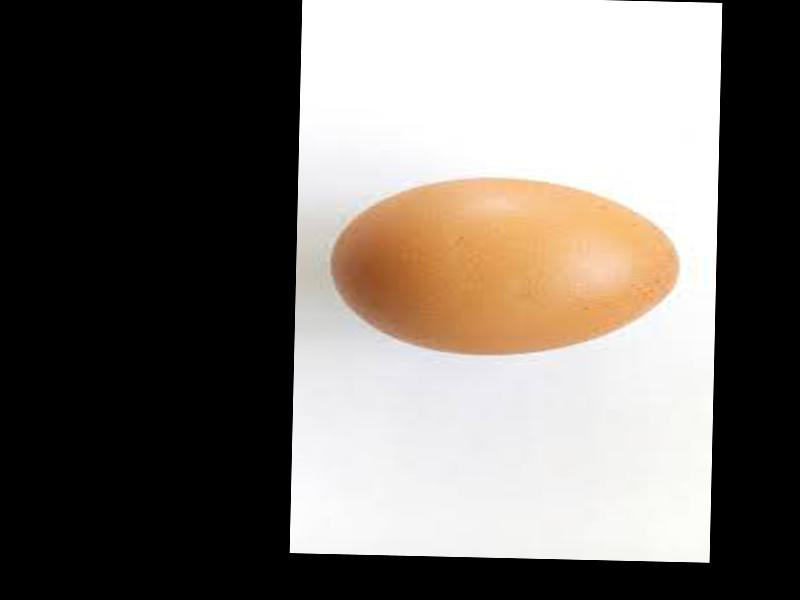Eggs: (330, 175, 680, 359)
